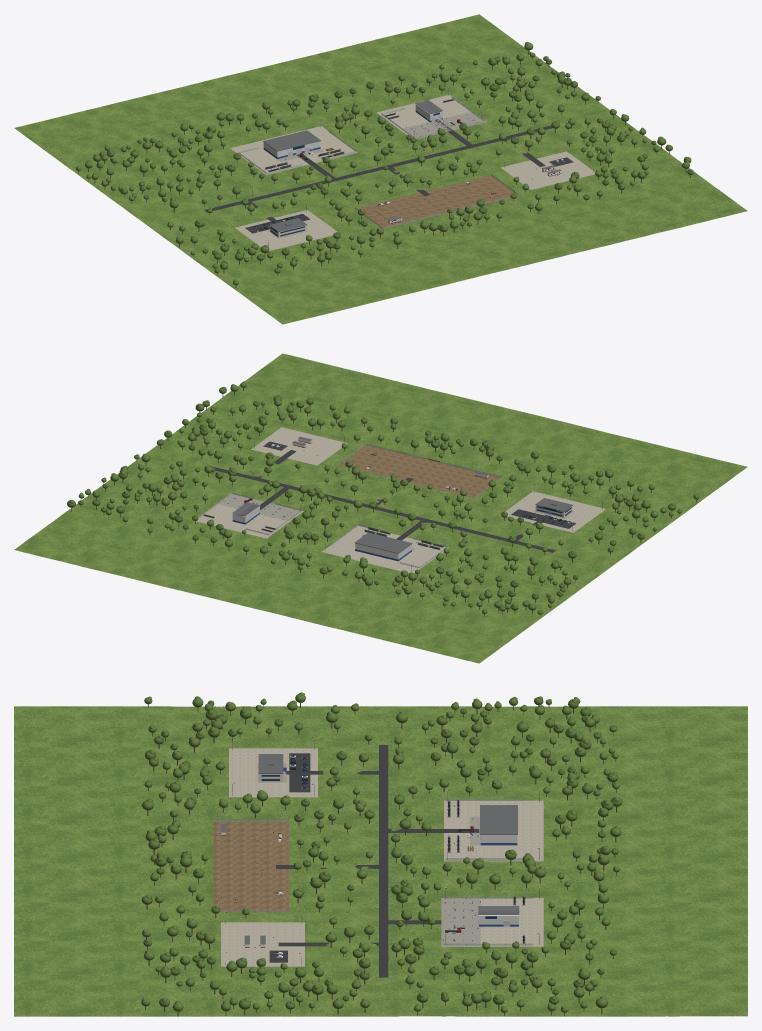
File: world.glb
The picture shows the model from 3 angles, top to bottom: view 1: azimuth 30°, elevation 25°; view 2: azimuth 150°, elevation 25°; view 3: azimuth 270°, elevation 25°; orthographic projection. The views are drawn at different scales.
Visible parts, largest first — view 1: Ground, Pad_field, Pad_vendor, Pad_qc, Pad_office, Pad_fab, Warehouse_VENDOR, Road_spine, FabYard, Office; view 2: Ground, Pad_field, Pad_vendor, Pad_qc, Pad_office, Pad_fab, Warehouse_VENDOR, Road_spine, FabYard, Office; view 3: Ground, Pad_field, Pad_vendor, Pad_qc, Pad_office, Pad_fab, Road_spine, Warehouse_VENDOR, FabYard, FabShop, Office, Parking.
Boxes of the visible parts, box(x1,y1,x2,y2) form: Ground: box(14, 14, 747, 324); Pad_field: box(355, 175, 517, 228); Pad_vendor: box(230, 126, 357, 174); Pad_qc: box(500, 151, 595, 189); Pad_office: box(235, 210, 337, 250); Pad_fab: box(376, 94, 486, 137); Warehouse_VENDOR: box(263, 130, 323, 161); Road_spine: box(204, 125, 552, 212); FabYard: box(402, 112, 484, 139); Office: box(268, 218, 307, 238); Ground: box(14, 353, 747, 663); Pad_field: box(338, 445, 501, 498); Pad_vendor: box(322, 525, 448, 573); Pad_qc: box(251, 427, 347, 465); Pad_office: box(505, 491, 605, 532); Pad_fab: box(196, 493, 303, 538); Warehouse_VENDOR: box(354, 532, 415, 561); Road_spine: box(204, 465, 555, 552); FabYard: box(218, 494, 301, 520); Office: box(534, 498, 573, 519); Ground: box(14, 706, 747, 1016); Pad_field: box(213, 821, 289, 911); Pad_vendor: box(444, 800, 543, 861); Pad_qc: box(221, 922, 304, 966); Pad_office: box(229, 748, 317, 797); Pad_fab: box(441, 898, 543, 946); Road_spine: box(379, 745, 388, 977); Warehouse_VENDOR: box(470, 805, 517, 845); FabYard: box(441, 899, 480, 945); FabShop: box(449, 906, 519, 929); Office: box(257, 754, 286, 782); Parking: box(289, 753, 310, 792).
Size of what is drawn, in the model's own units: 565 by 15.09 by 560.
Materials: 71 (12 with a texture image).
